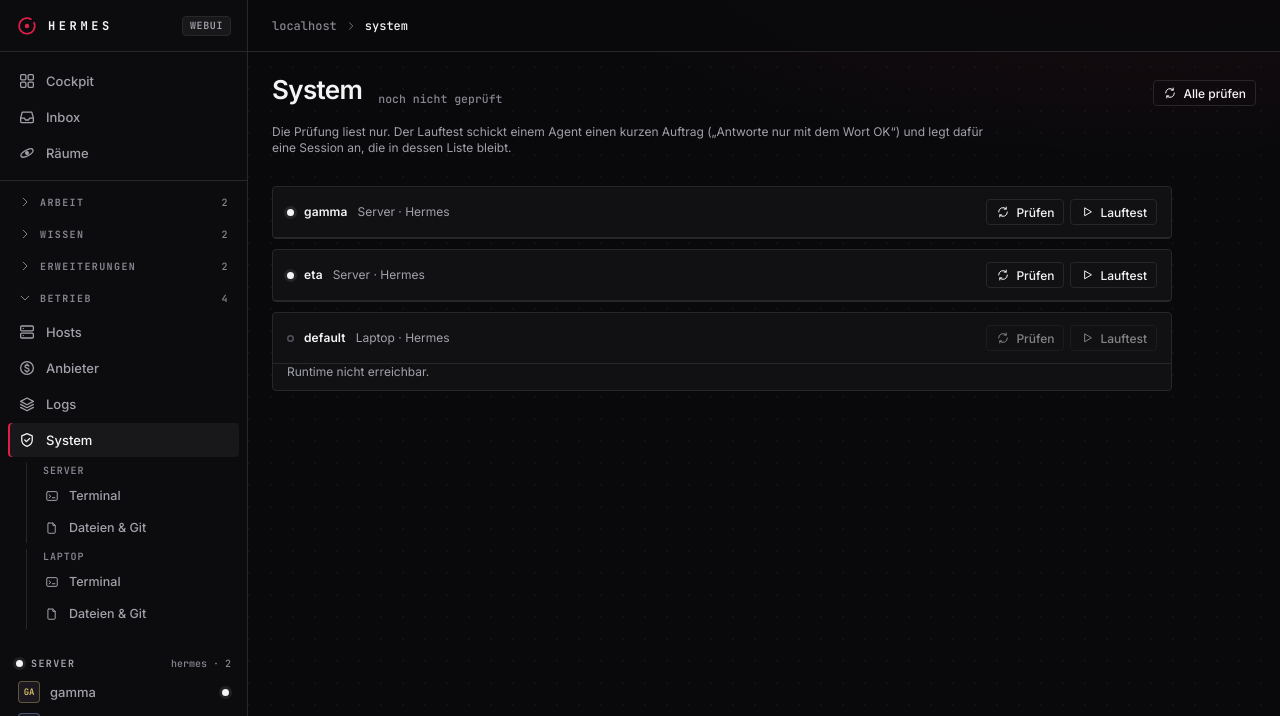
Test case: System › checks every reachable agent with one click and shows the result per check
Expected: the heading "System" is shown, [272,74,362,106]
Expected: the element named "Server gamma" is shown, [272,186,1172,239]
Click the button "Alle prüfen".
click(1205, 93)  # box [1153,80,1256,106]
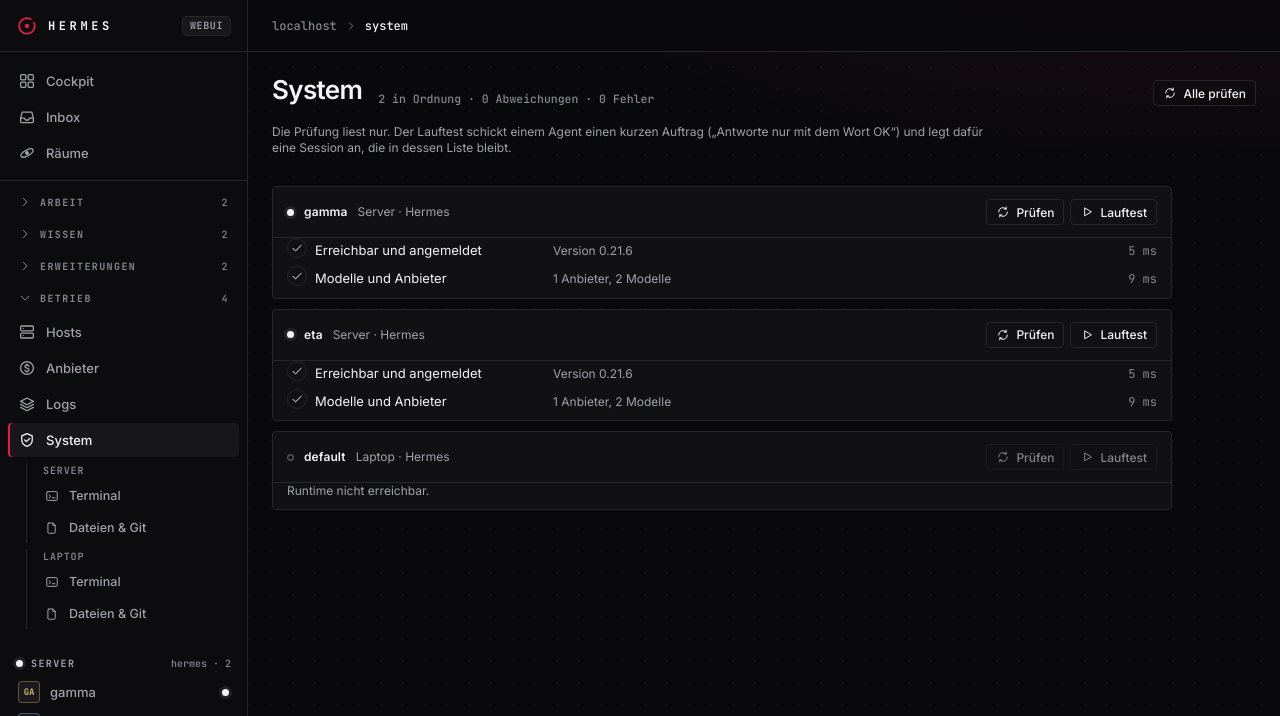
Expected: the 1st text "Version 0.21.6" is shown, [553,243,633,258]
Expected: the number of pictures named "in Ordnung" is 2, [287,238,307,258]; [287,266,307,286]
Expected: the text "2 in Ordnung · 0 Abweichungen · 0 Fehler" is shown, [378,91,654,106]
